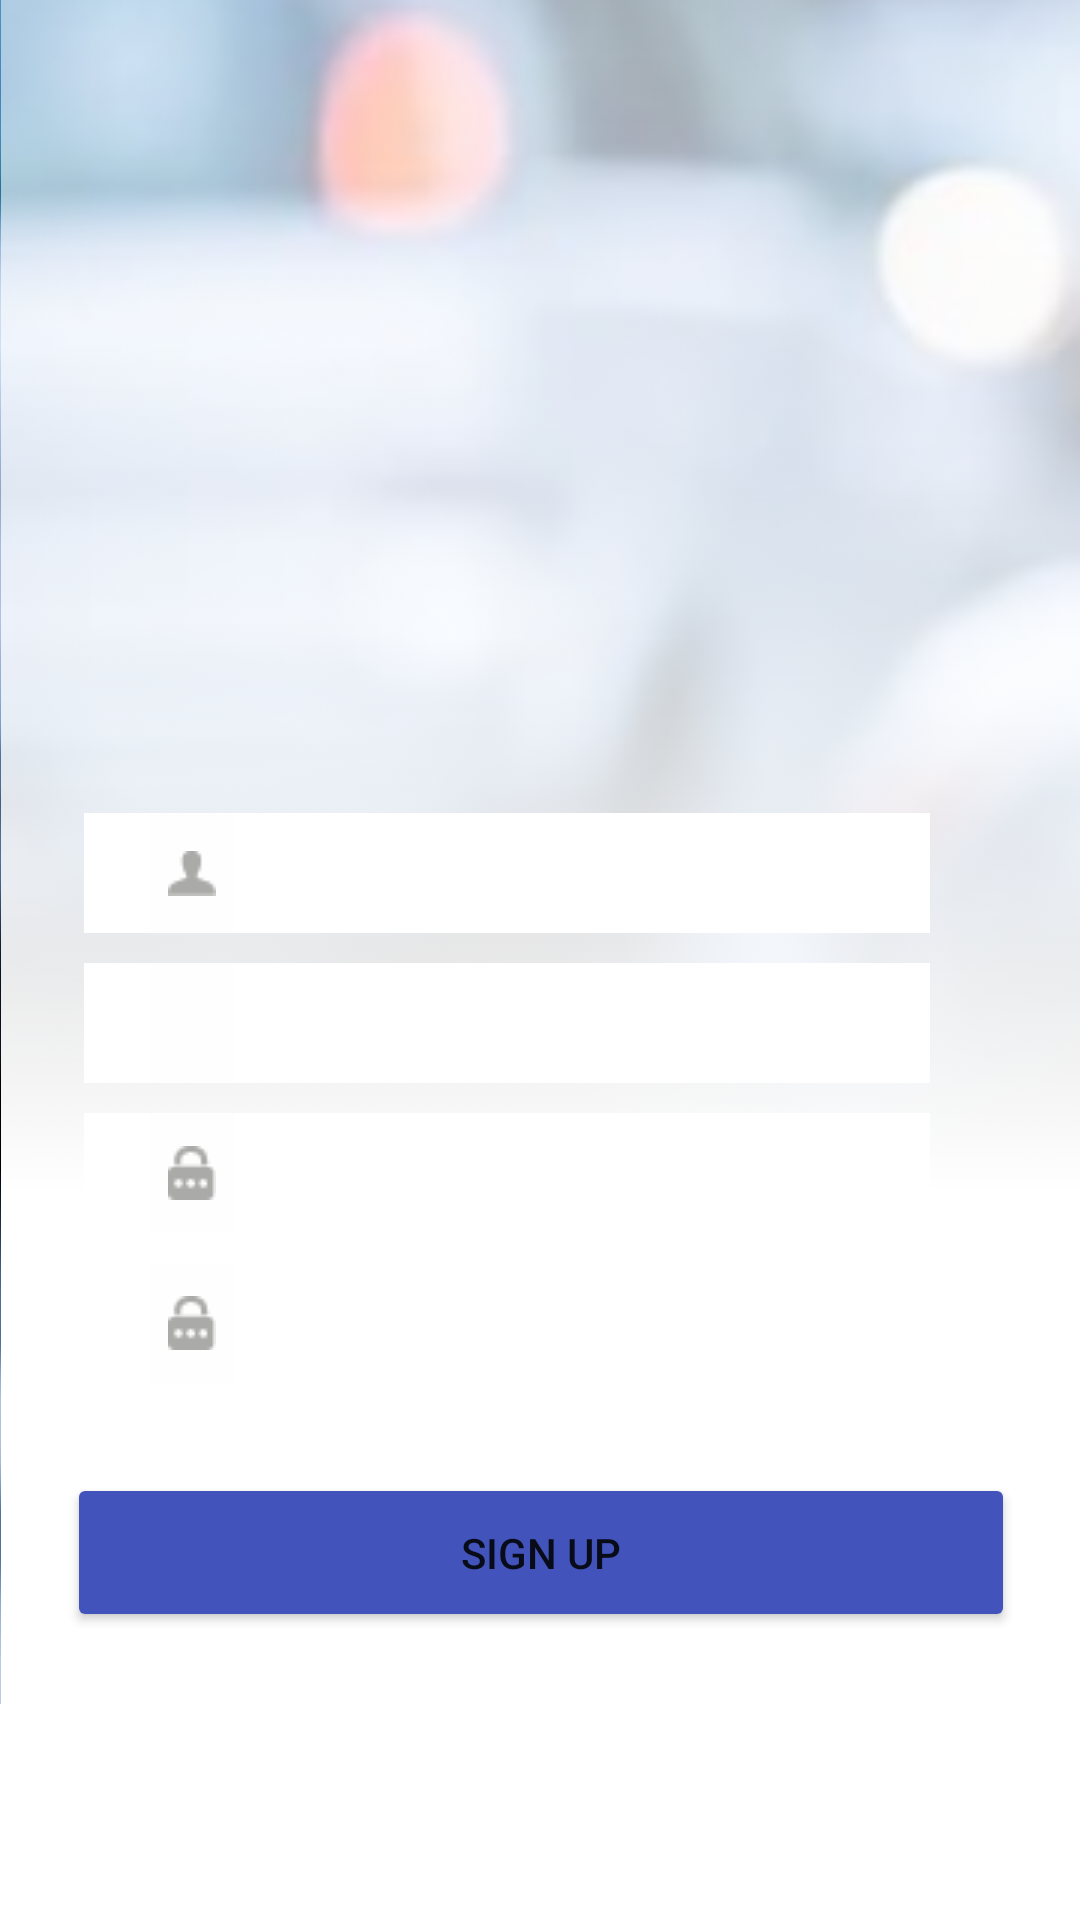

Icon click points for this 1080*1920 phone screenshot, format (x=x, y=y):
lock: (x=191, y=1173), (x=191, y=1323)
